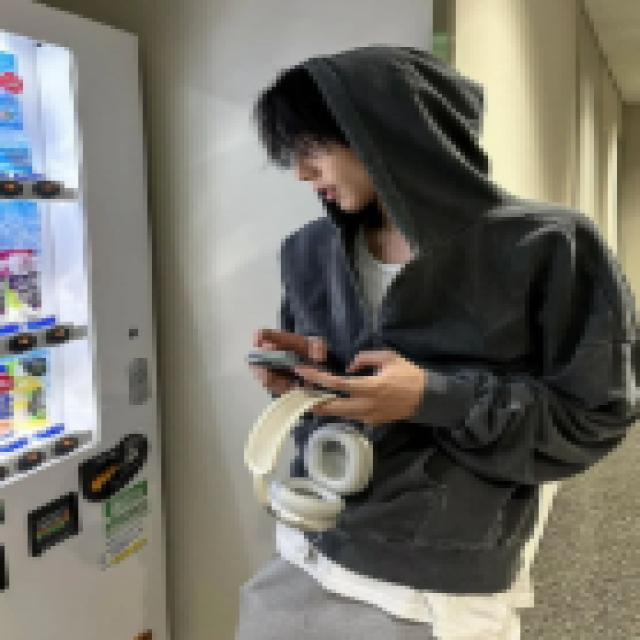4_capucha: (303, 42, 495, 243)
